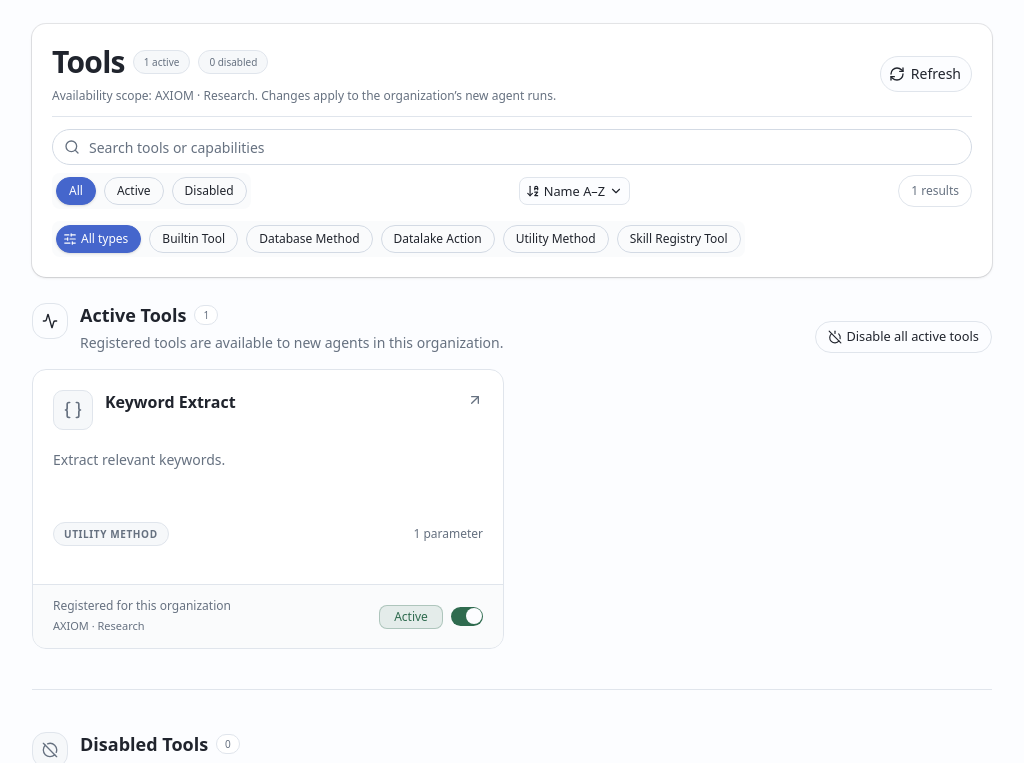
Test: ToolsPage catalog states › keeps the last catalog visible when a refresh fails
Expected: the heading "Keyword Extract" is shown, [105, 391, 236, 413]
Click the button "Refresh".
click(926, 74)  # box [880, 56, 972, 92]
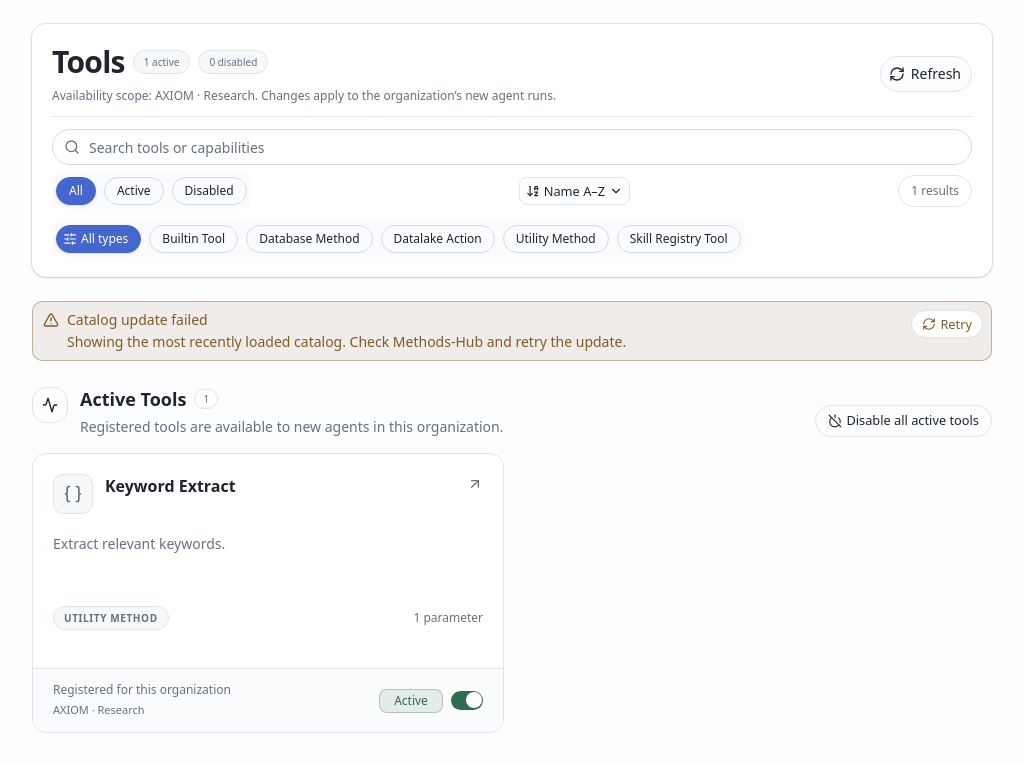
Expected: the heading "Keyword Extract" is shown, [105, 475, 236, 497]
Expected: the text "Catalog update failed" is shown, [67, 310, 208, 329]
